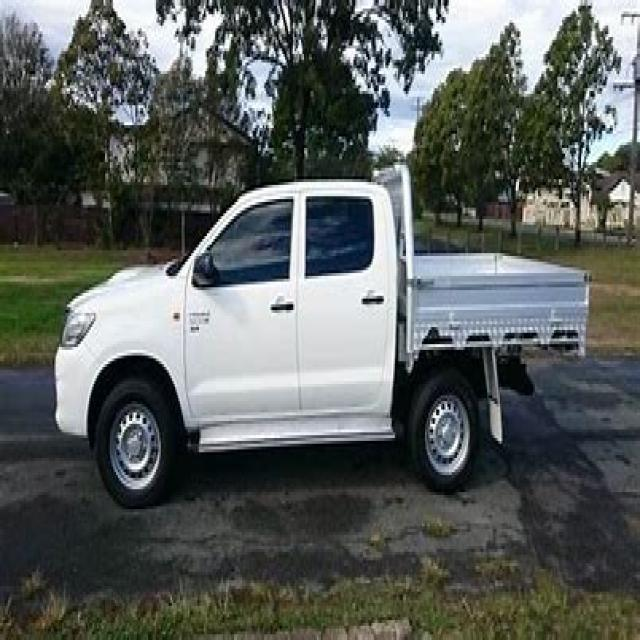light_vehicle: (44, 148, 598, 503)
